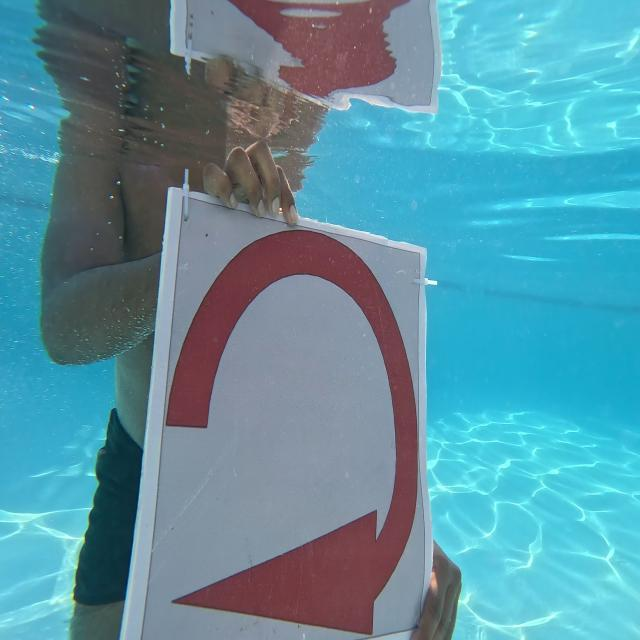red_side: (149, 181, 440, 640)
